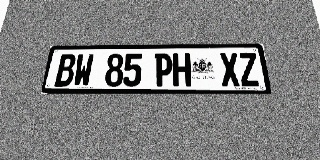5: (123, 53, 142, 86)
8: (104, 54, 125, 87)
B: (54, 54, 77, 87)
H: (173, 53, 191, 86)
P: (154, 53, 172, 86)
W: (72, 54, 94, 87)
X: (219, 53, 241, 86)
Z: (237, 53, 260, 86)
